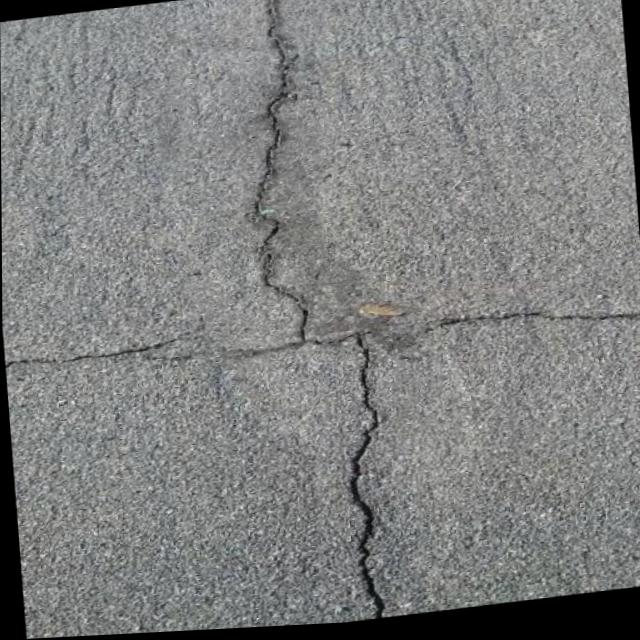Crack: (214, 0, 432, 631), (404, 283, 640, 358), (2, 316, 209, 397)
